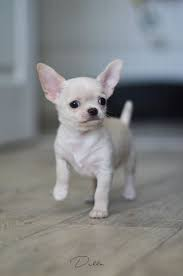Chihuahua: (18, 44, 162, 228)
